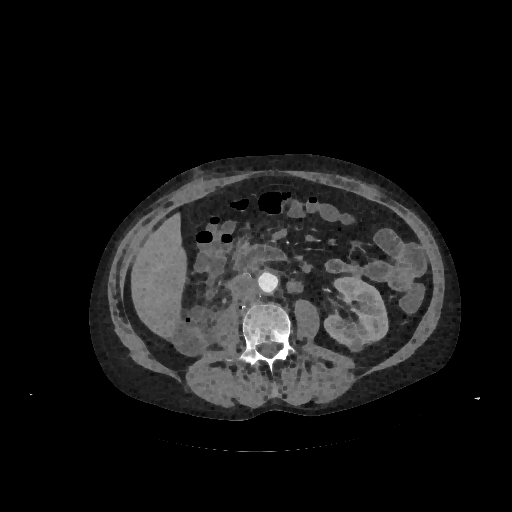Lesion: (346, 339, 367, 353)
